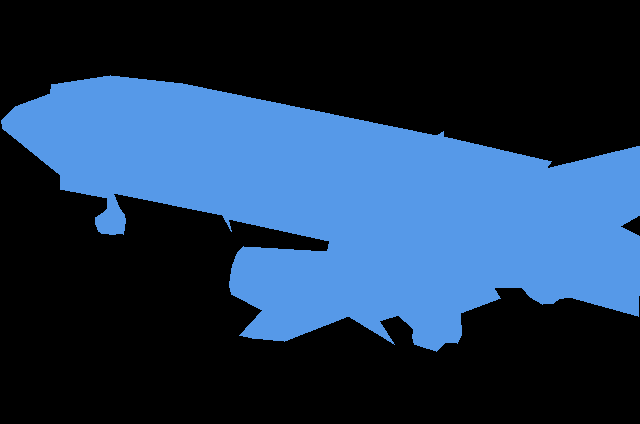Airplane: (1, 75, 640, 352)
